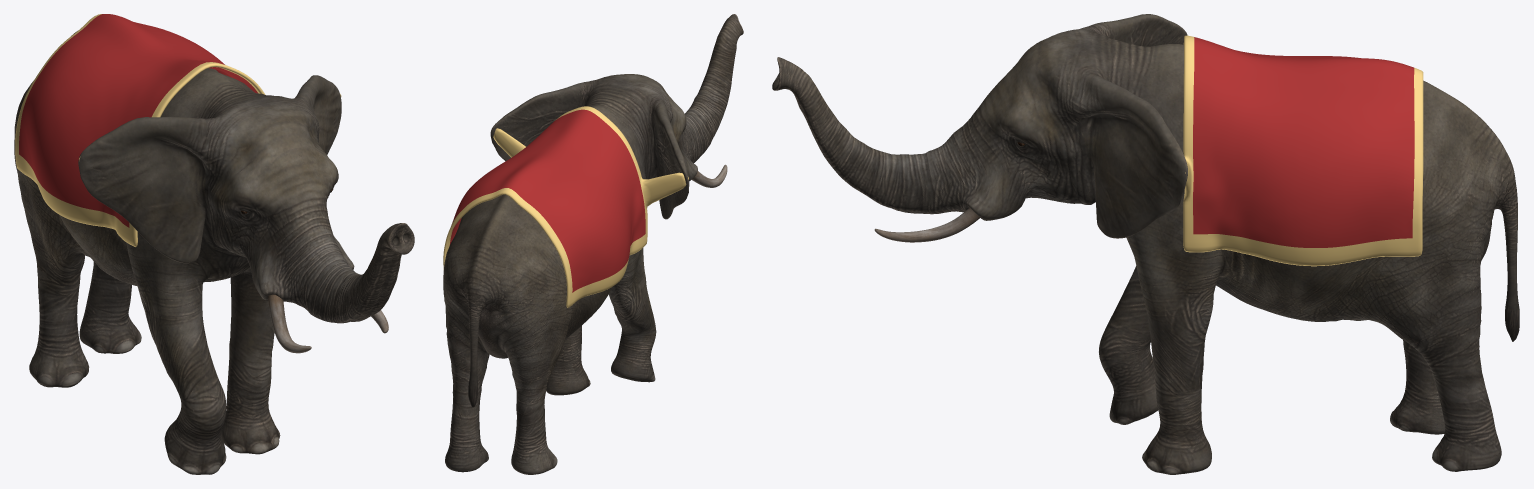
File: war_elephant.glb
3 renders of one model, left to right at view 1: azimuth 30°, elevation 25°; view 2: azimuth 150°, elevation 25°; view 3: azimuth 270°, elevation 25°, orthographic. The views are drawn at different scales.
Visible parts, largest first — view 1: node_id511, caparison; view 2: node_id511, caparison; view 3: node_id511, caparison.
Boxes of the visible parts, x1,y1,x2,y2 form: node_id511: (14,31,414,474); caparison: (15,14,341,246); node_id511: (443,14,743,474); caparison: (443,106,688,307); node_id511: (772,14,1519,474); caparison: (1183,35,1423,266).
Bounding box in the file's own units: 2.23 × 3.14 × 5.19.
Materials: 3 (1 with a texture image).
